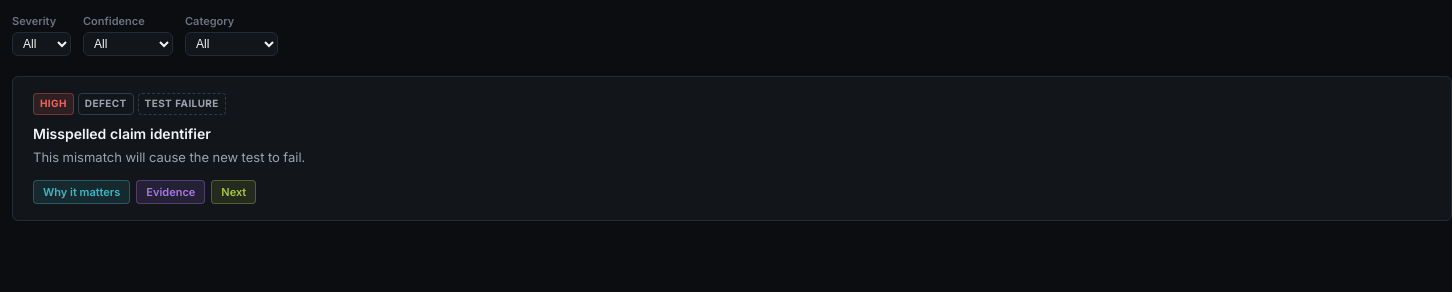
Scenario: ConfirmedIssues › only shows one facet's content at a time, per card
Click the button "Why it matters" at (82, 192), box [33,180,130,204]
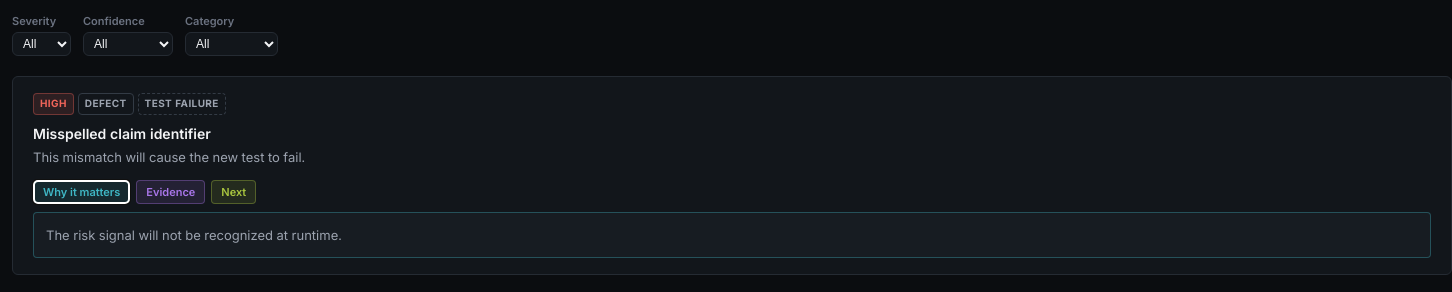
Expected: the text "The risk signal will not be recognized at runtime." is shown, [46,227,342,243]
Click the button "Evidence" at (171, 192), box [136,180,205,204]
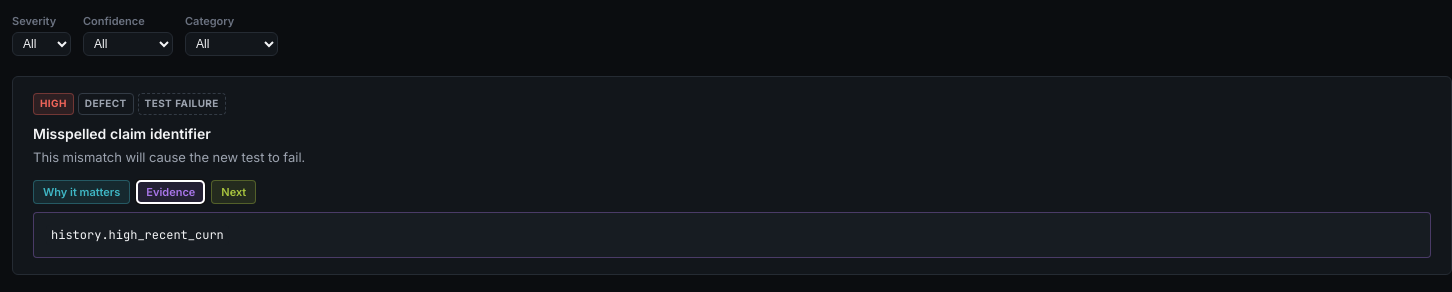
Expected: the text "The risk signal will not be recognized at runtime." is gone
Expected: the text "history.high_recent_curn" is shown, [46,225,229,245]
Click the button "Evidence" at (171, 192), box [136,180,205,204]
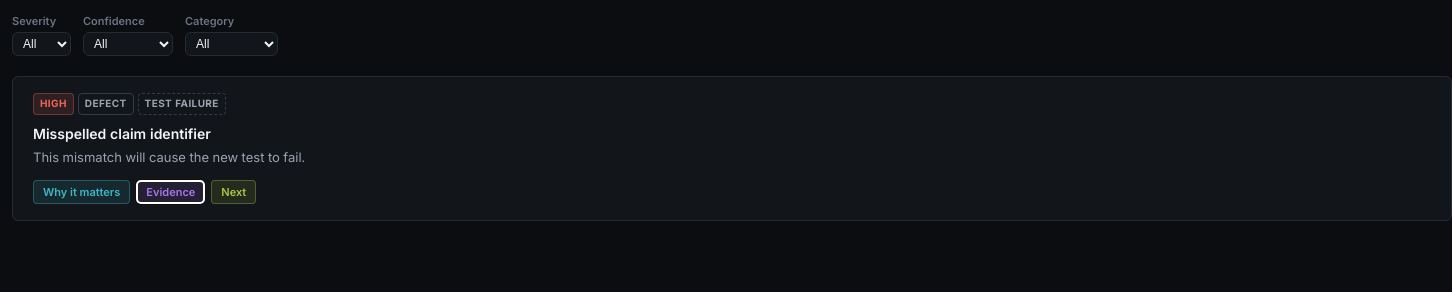
Expected: the text "history.high_recent_curn" is gone
